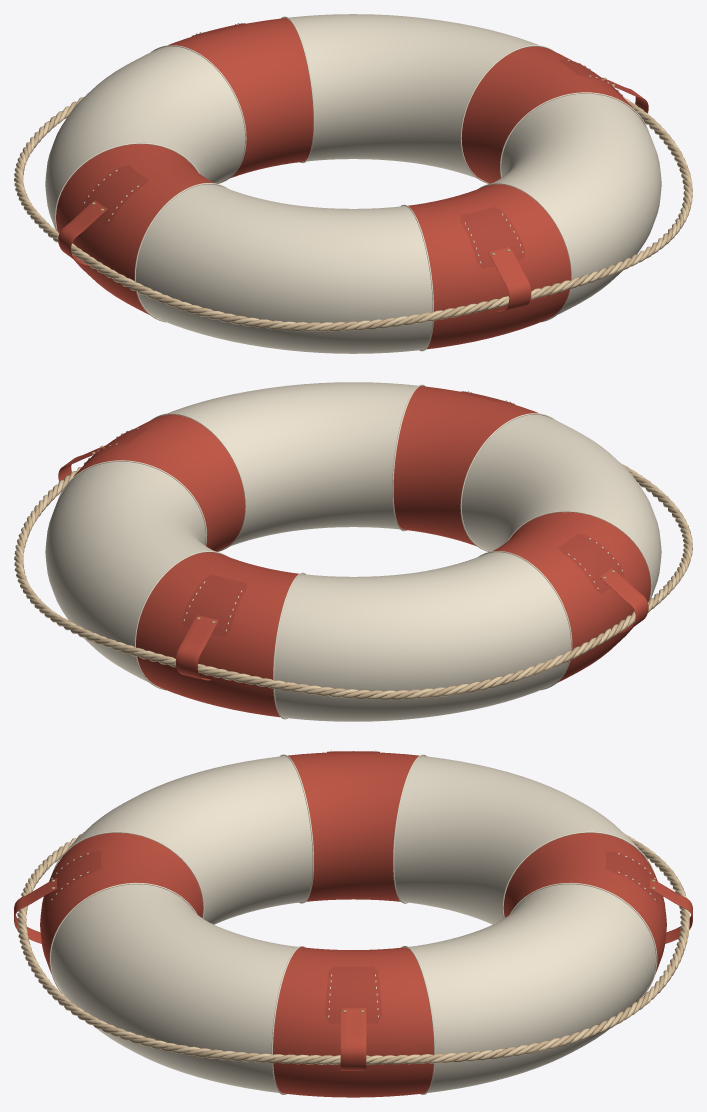
Rendered from lifebuoy-v4-game.glb.
3 views of the same model, one above another, from view 1: azimuth 30°, elevation 25°; view 2: azimuth 150°, elevation 25°; view 3: azimuth 270°, elevation 25° (orthographic).
Visible parts, largest first — view 1: Buoy | continuous coated body.001, Grab line | strand 3.001, Grab line | strand 2.001, Grab line | strand 1.001, Keeper | sewn reinforcement 4.001, Keeper | sewn reinforcement 3.001, Rope keeper | 4.001, Rope keeper | 3.001; view 2: Buoy | continuous coated body.001, Grab line | strand 2.001, Grab line | strand 3.001, Grab line | strand 1.001, Keeper | sewn reinforcement 2.001, Keeper | sewn reinforcement 3.001, Rope keeper | 2.001, Rope keeper | 3.001; view 3: Buoy | continuous coated body.001, Grab line | strand 3.001, Grab line | strand 2.001, Grab line | strand 1.001, Keeper | sewn reinforcement 1.001, Rope keeper | 1.001, Keeper | sewn reinforcement 2.001, Keeper | sewn reinforcement 4.001, Rope keeper | 2.001, Rope keeper | 4.001.
Boxes of the visible parts, left/top/right/bottom form: Buoy | continuous coated body.001: left=45, top=14, right=661, bottom=353; Grab line | strand 3.001: left=14, top=93, right=692, bottom=331; Grab line | strand 2.001: left=14, top=96, right=692, bottom=331; Grab line | strand 1.001: left=14, top=101, right=692, bottom=331; Keeper | sewn reinforcement 4.001: left=460, top=206, right=524, bottom=268; Keeper | sewn reinforcement 3.001: left=82, top=165, right=148, bottom=225; Rope keeper | 4.001: left=488, top=247, right=531, bottom=312; Rope keeper | 3.001: left=58, top=200, right=106, bottom=266; Buoy | continuous coated body.001: left=45, top=382, right=661, bottom=721; Grab line | strand 2.001: left=14, top=468, right=692, bottom=699; Grab line | strand 3.001: left=14, top=463, right=692, bottom=699; Grab line | strand 1.001: left=14, top=464, right=692, bottom=699; Keeper | sewn reinforcement 2.001: left=182, top=574, right=246, bottom=636; Keeper | sewn reinforcement 3.001: left=558, top=533, right=624, bottom=593; Rope keeper | 2.001: left=175, top=615, right=218, bottom=680; Rope keeper | 3.001: left=600, top=568, right=648, bottom=633; Buoy | continuous coated body.001: left=40, top=752, right=666, bottom=1097; Grab line | strand 3.001: left=17, top=837, right=689, bottom=1064; Grab line | strand 2.001: left=17, top=834, right=689, bottom=1064; Grab line | strand 1.001: left=17, top=834, right=689, bottom=1064; Keeper | sewn reinforcement 1.001: left=325, top=966, right=381, bottom=1023; Rope keeper | 1.001: left=340, top=1008, right=366, bottom=1070; Keeper | sewn reinforcement 2.001: left=605, top=851, right=658, bottom=904; Keeper | sewn reinforcement 4.001: left=48, top=851, right=101, bottom=904; Rope keeper | 2.001: left=649, top=878, right=692, bottom=943; Rope keeper | 4.001: left=14, top=878, right=57, bottom=943.
Size of the model in its own units: 1.16 by 0.2522 by 1.16.
